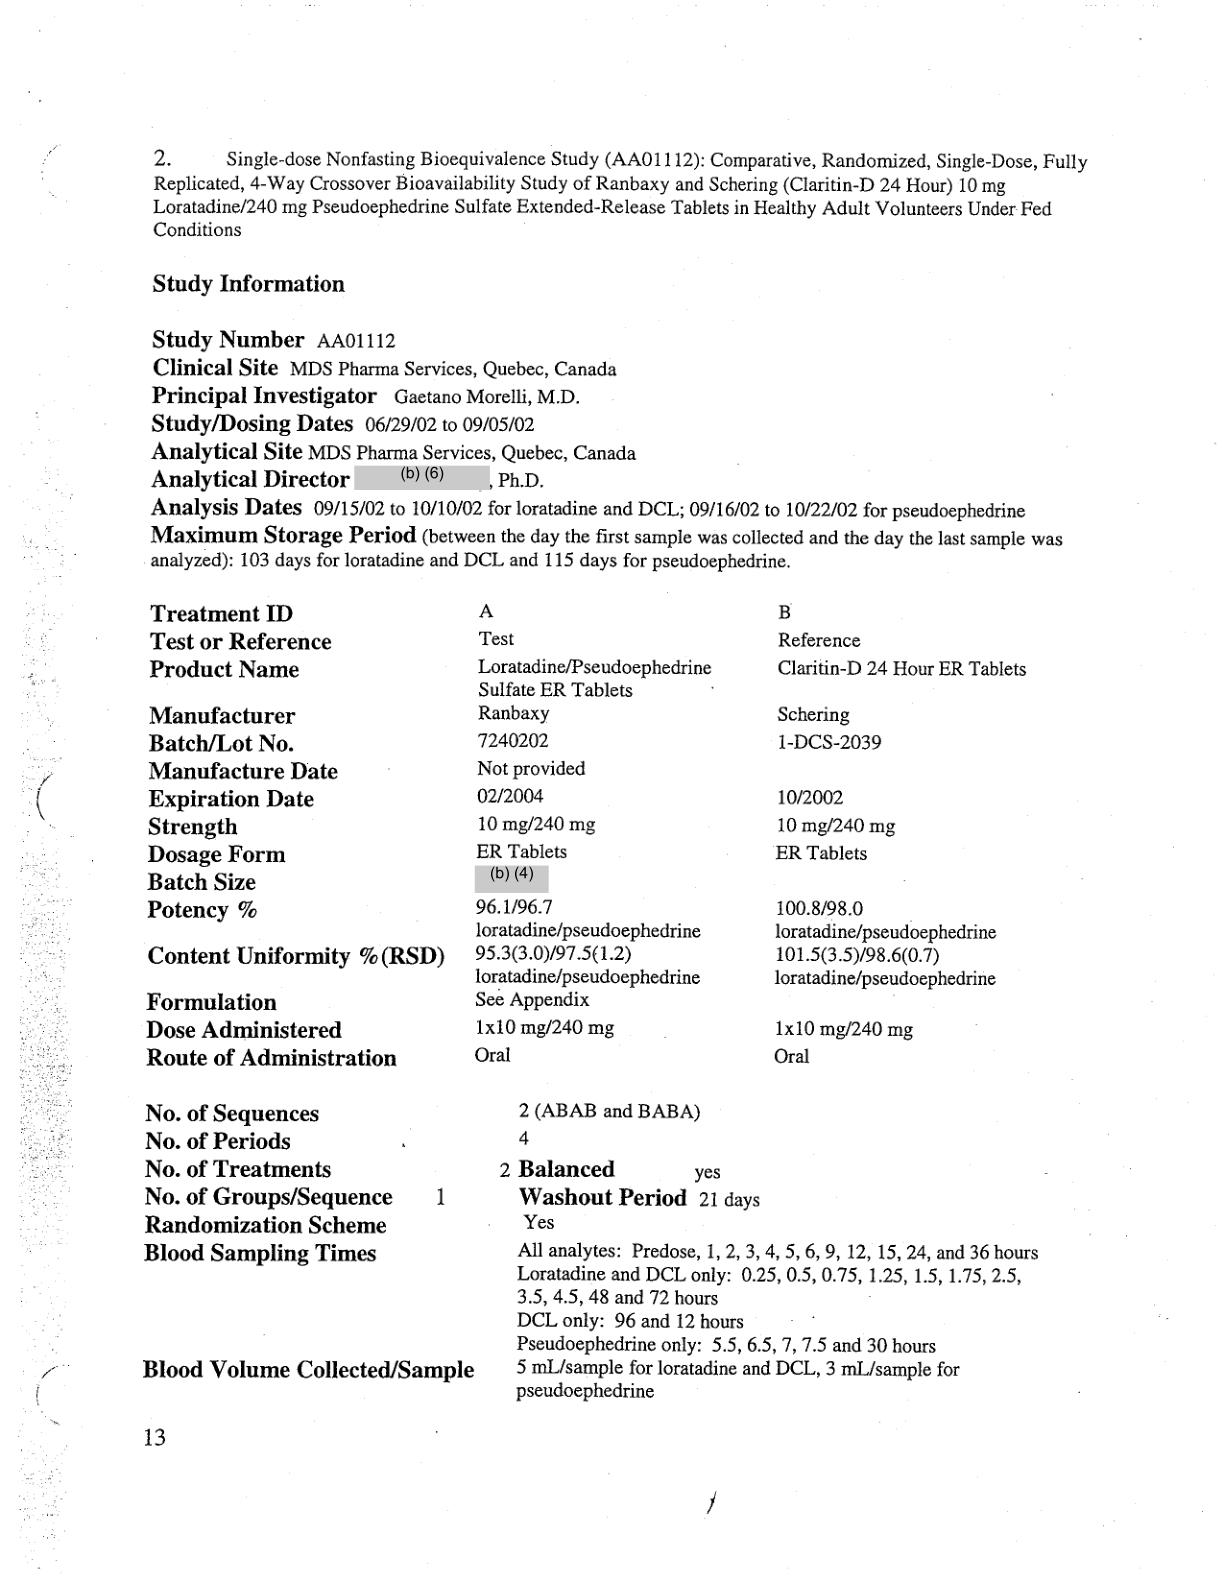nolines: (146, 600, 1027, 1072), (146, 1099, 1042, 1402)
